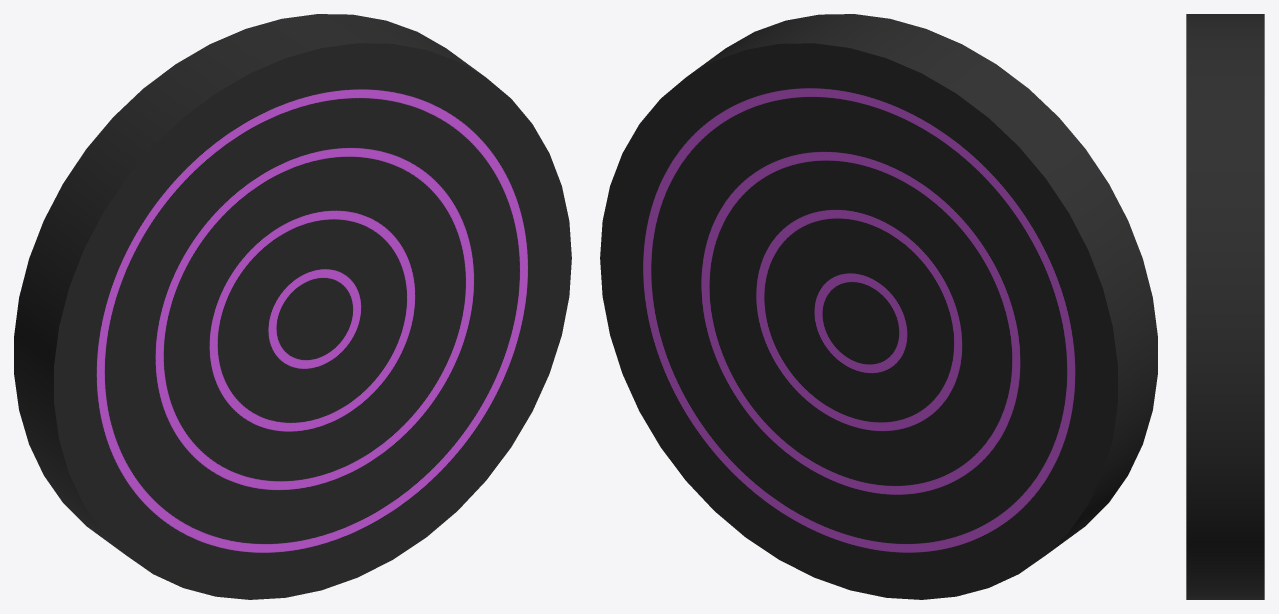
Rendered from target.fbx.
The picture shows the model from 3 angles, left to right: view 1: azimuth 30°, elevation 25°; view 2: azimuth 150°, elevation 25°; view 3: azimuth 270°, elevation 25°; orthographic projection. The views are drawn at different scales.
Visible parts, largest first — view 1: Cylinder001; view 2: Cylinder001; view 3: Cylinder001.
Part boxes in pixels (box(x1,y1,x2,y2)): Cylinder001: box(14, 14, 571, 599); Cylinder001: box(600, 14, 1157, 599); Cylinder001: box(1186, 14, 1264, 599).
Size of the model in its own units: 28.27 by 28.29 by 3.79.
1 material, 1 textured.
